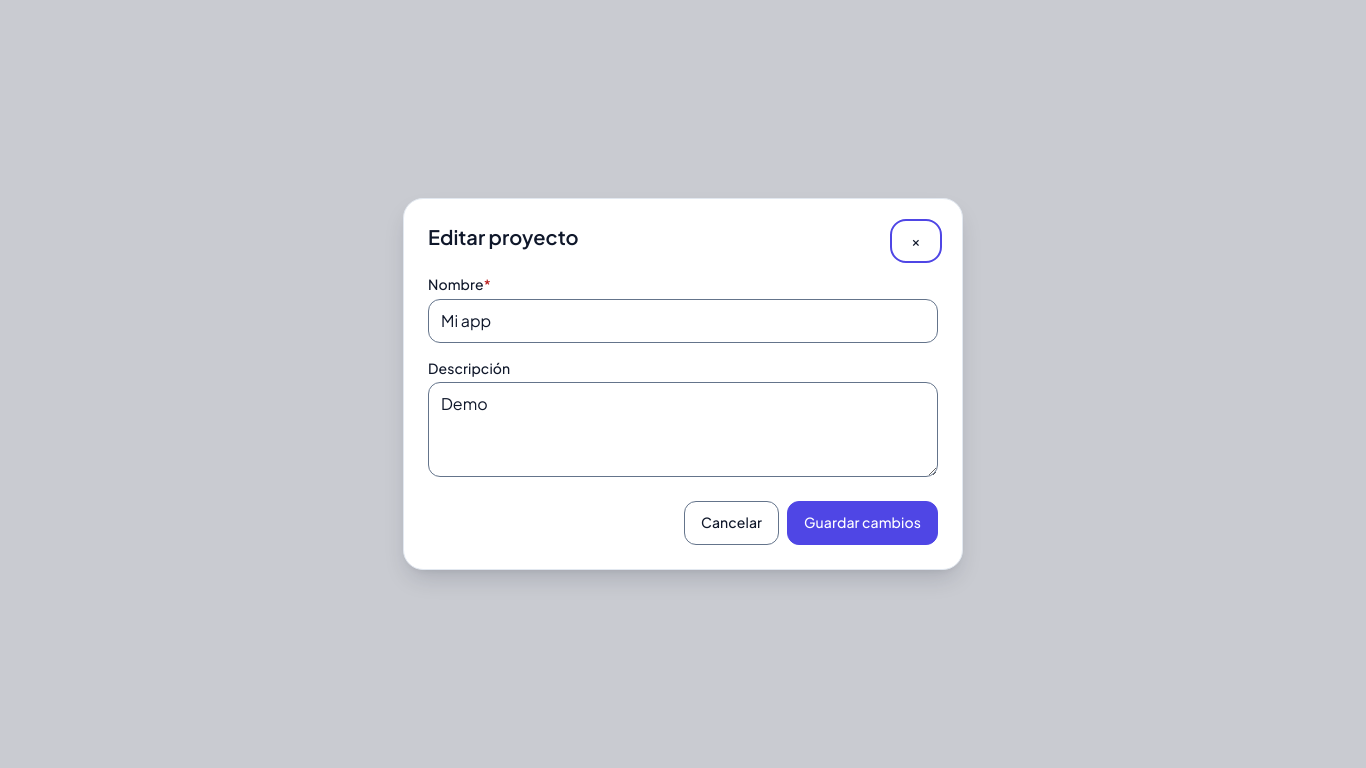
EditProjectDialog › con nombre vacío muestra el error junto al campo y no guarda
Clear the field labelled "Nombre*": {"x": 683, "y": 321} x1=428 y1=299 x2=938 y2=343
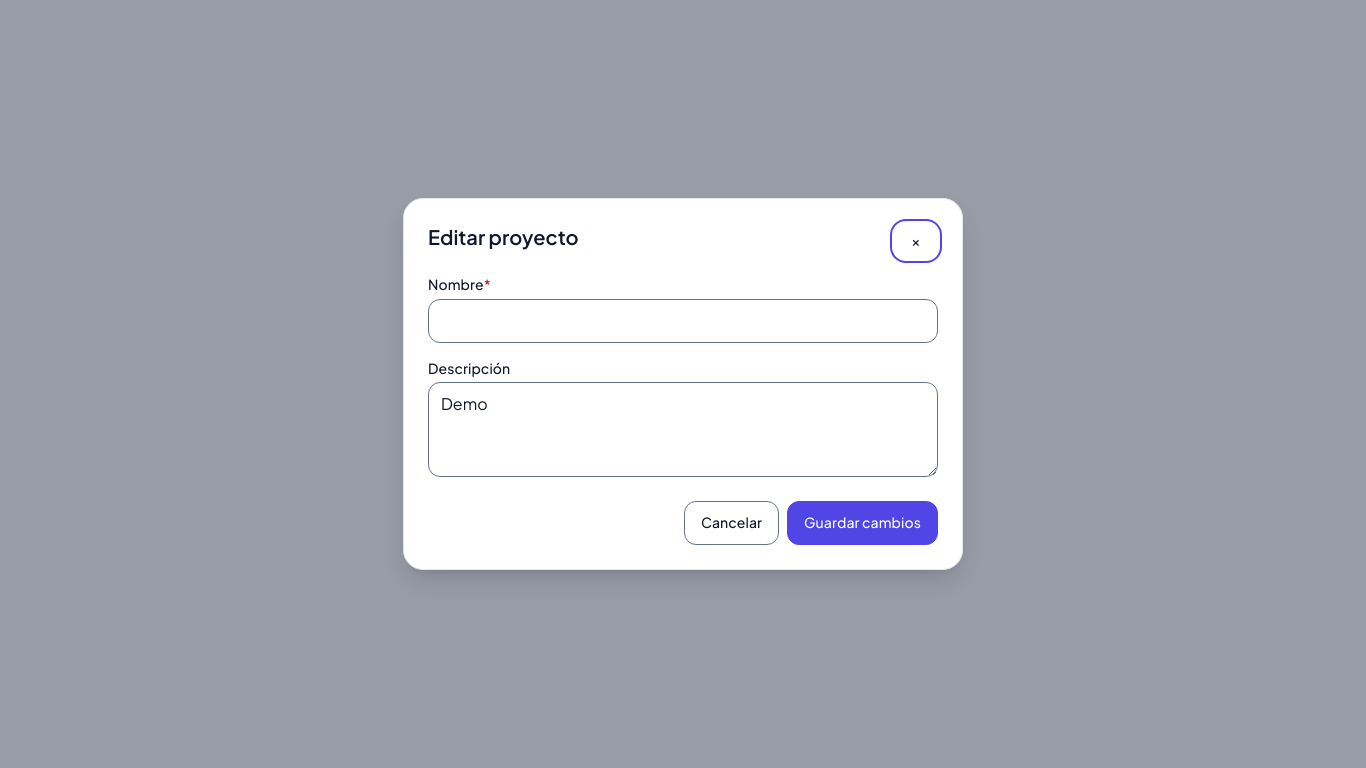
Click the button "Guardar cambios": {"x": 863, "y": 523} x1=787 y1=501 x2=938 y2=545
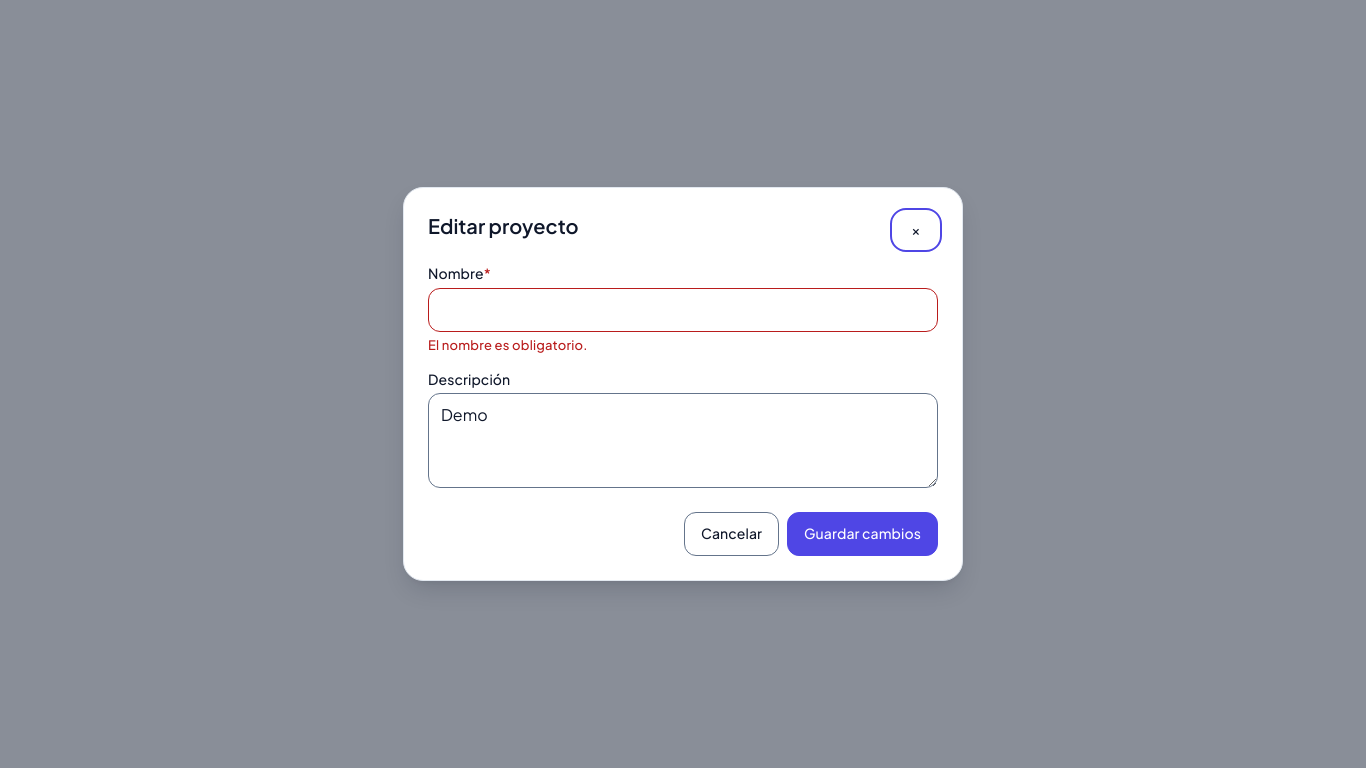
Expected: the dialog is shown, x1=403 y1=187 x2=963 y2=581
Expected: the text "El nombre es obligatorio." is shown, x1=428 y1=336 x2=588 y2=352
